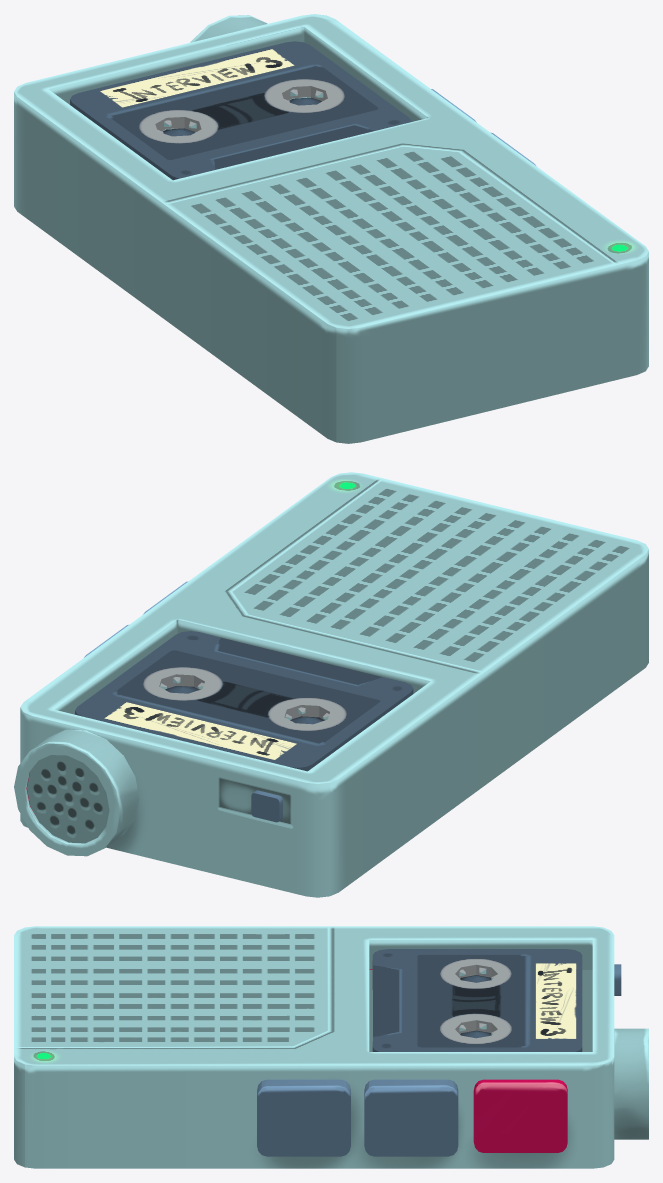
3 renders of one model, top to bottom at view 1: azimuth 30°, elevation 25°; view 2: azimuth 150°, elevation 25°; view 3: azimuth 270°, elevation 25°, orthographic. The views are drawn at different scales.
Visible parts, largest first — view 1: Object_2; view 2: Object_2; view 3: Object_2.
Boxes of the visible parts, box(x1,y1,x2,y2) form: Object_2: box(14, 14, 648, 443); Object_2: box(14, 472, 648, 897); Object_2: box(14, 926, 648, 1168).
Bounding box in the file's own units: 2.98 × 0.9738 × 5.44.
1 material, 1 textured.
